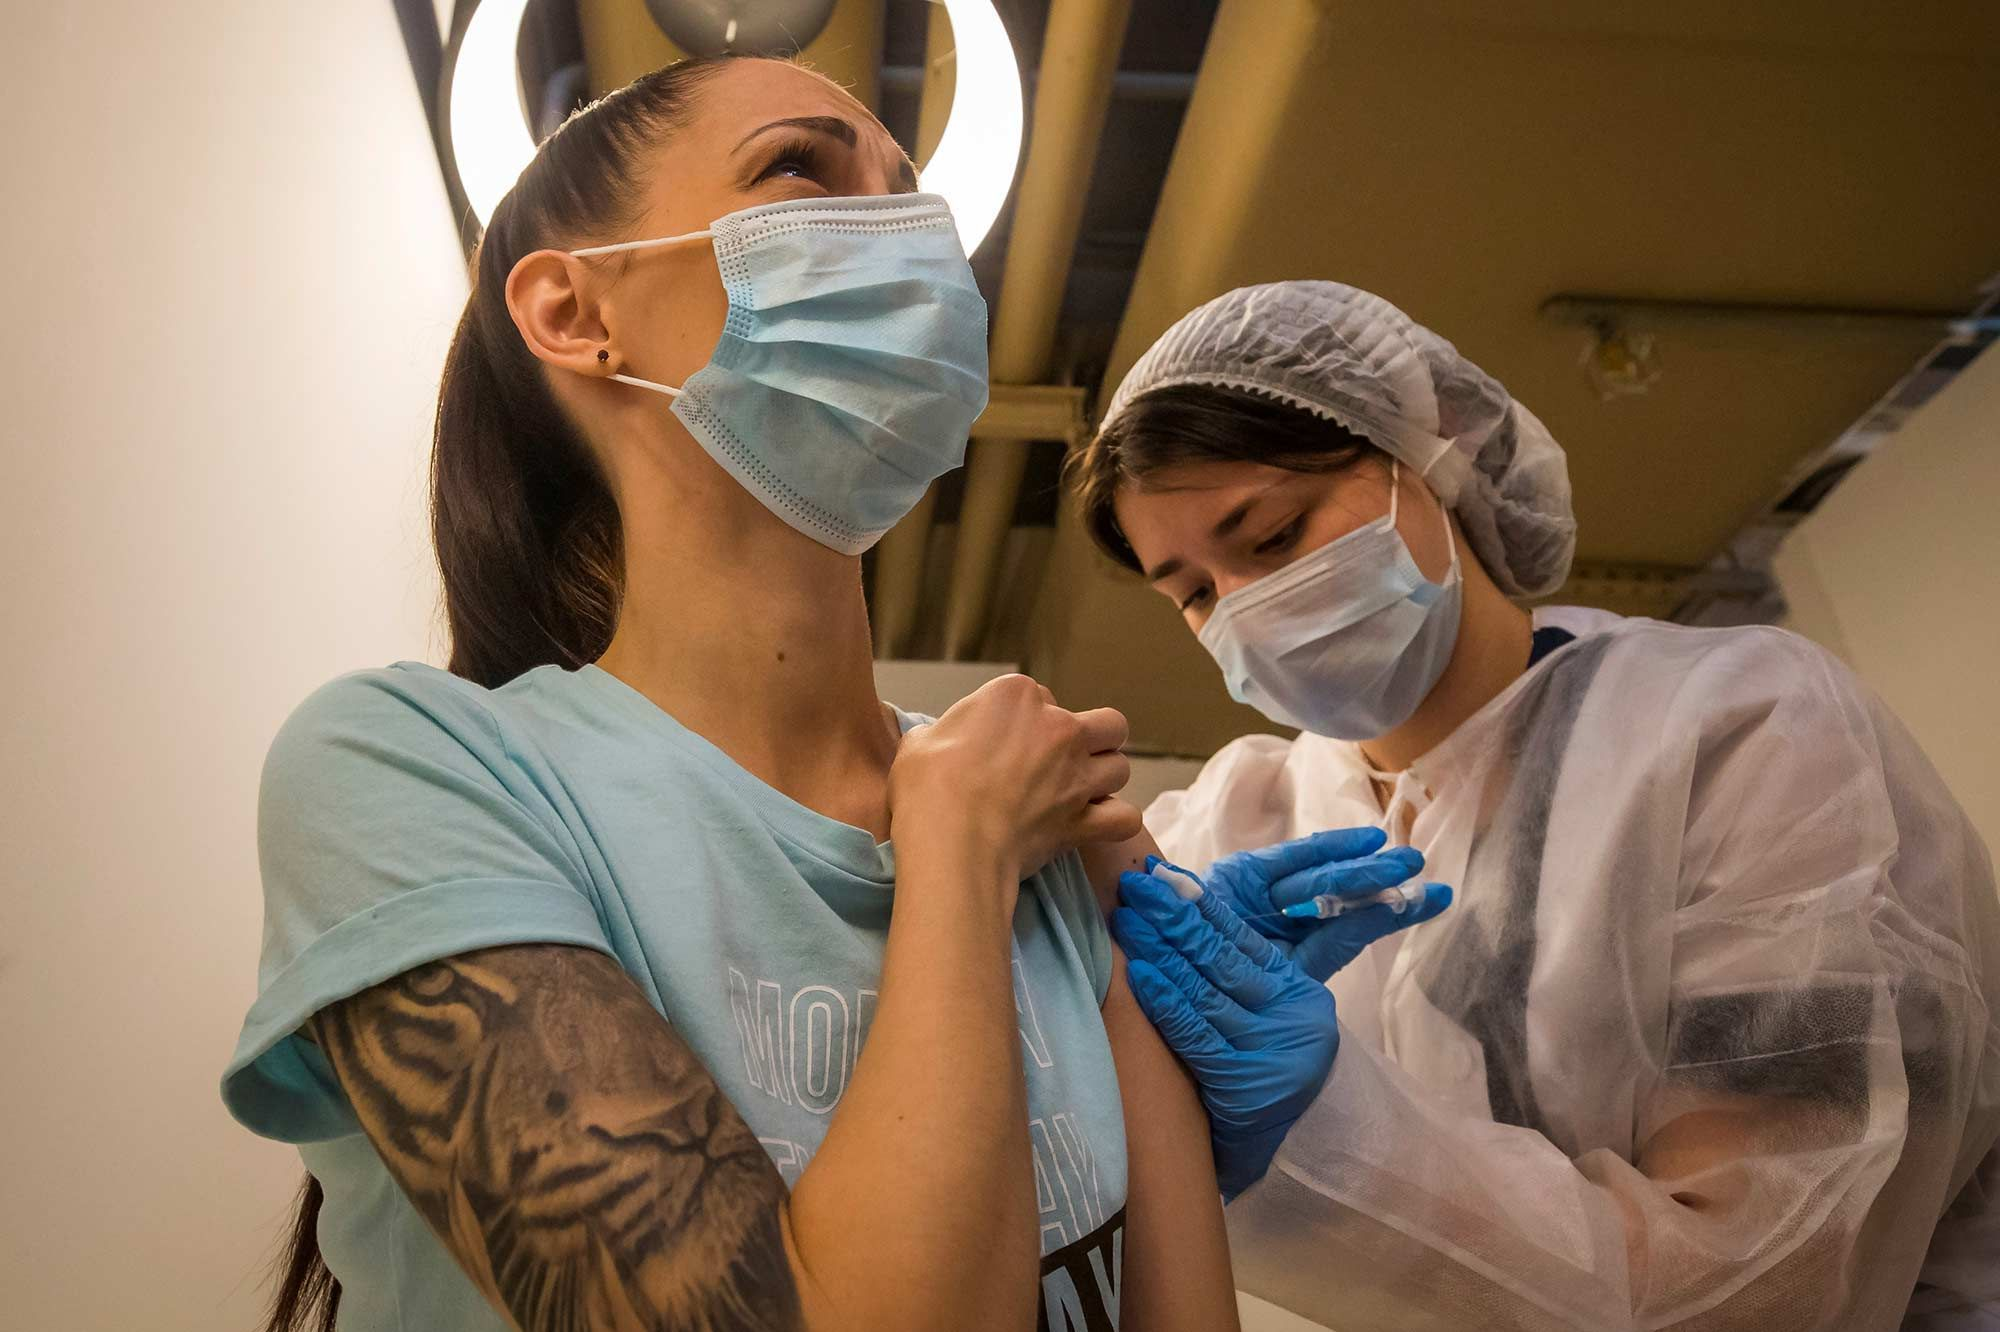with_mask: (604, 90, 990, 542), (1106, 441, 1466, 725)
